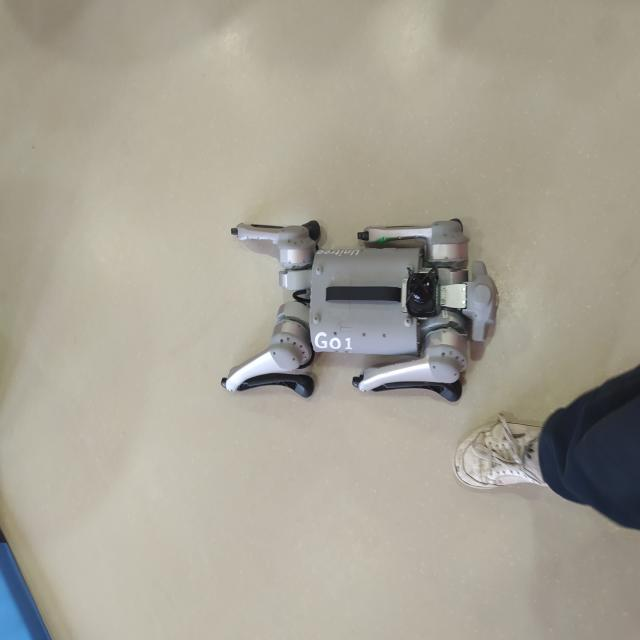unitree-go1-robot: (208, 193, 502, 425)
